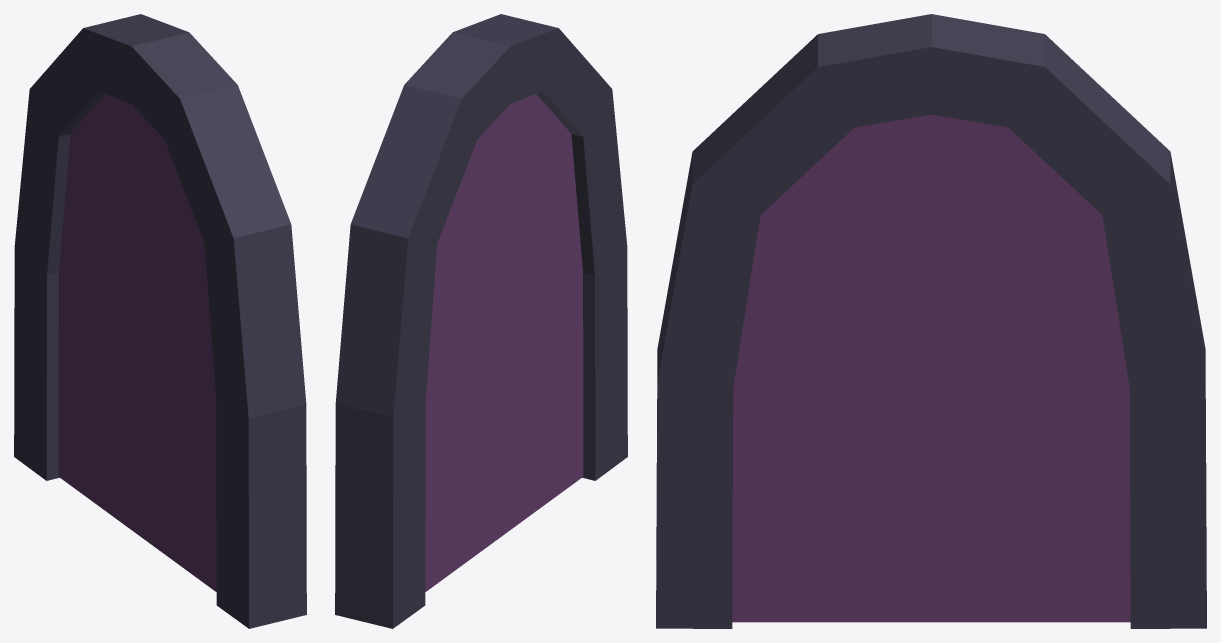
File: Door.fbx
3 views of the same model, side by side, from view 1: azimuth 30°, elevation 25°; view 2: azimuth 150°, elevation 25°; view 3: azimuth 270°, elevation 25° (orthographic). The views are drawn at different scales.
Parts seen in each view (by area): view 1: Cube; view 2: Cube; view 3: Cube.
Part boxes in pixels (box(x1,y1,x2,y2)): Cube: box(14, 14, 306, 628); Cube: box(335, 14, 627, 628); Cube: box(656, 14, 1206, 628).
Size of the model in its own units: 40 by 329 by 282.
